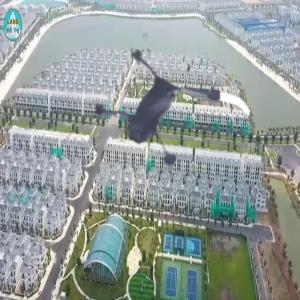drone: (73, 33, 256, 216)
